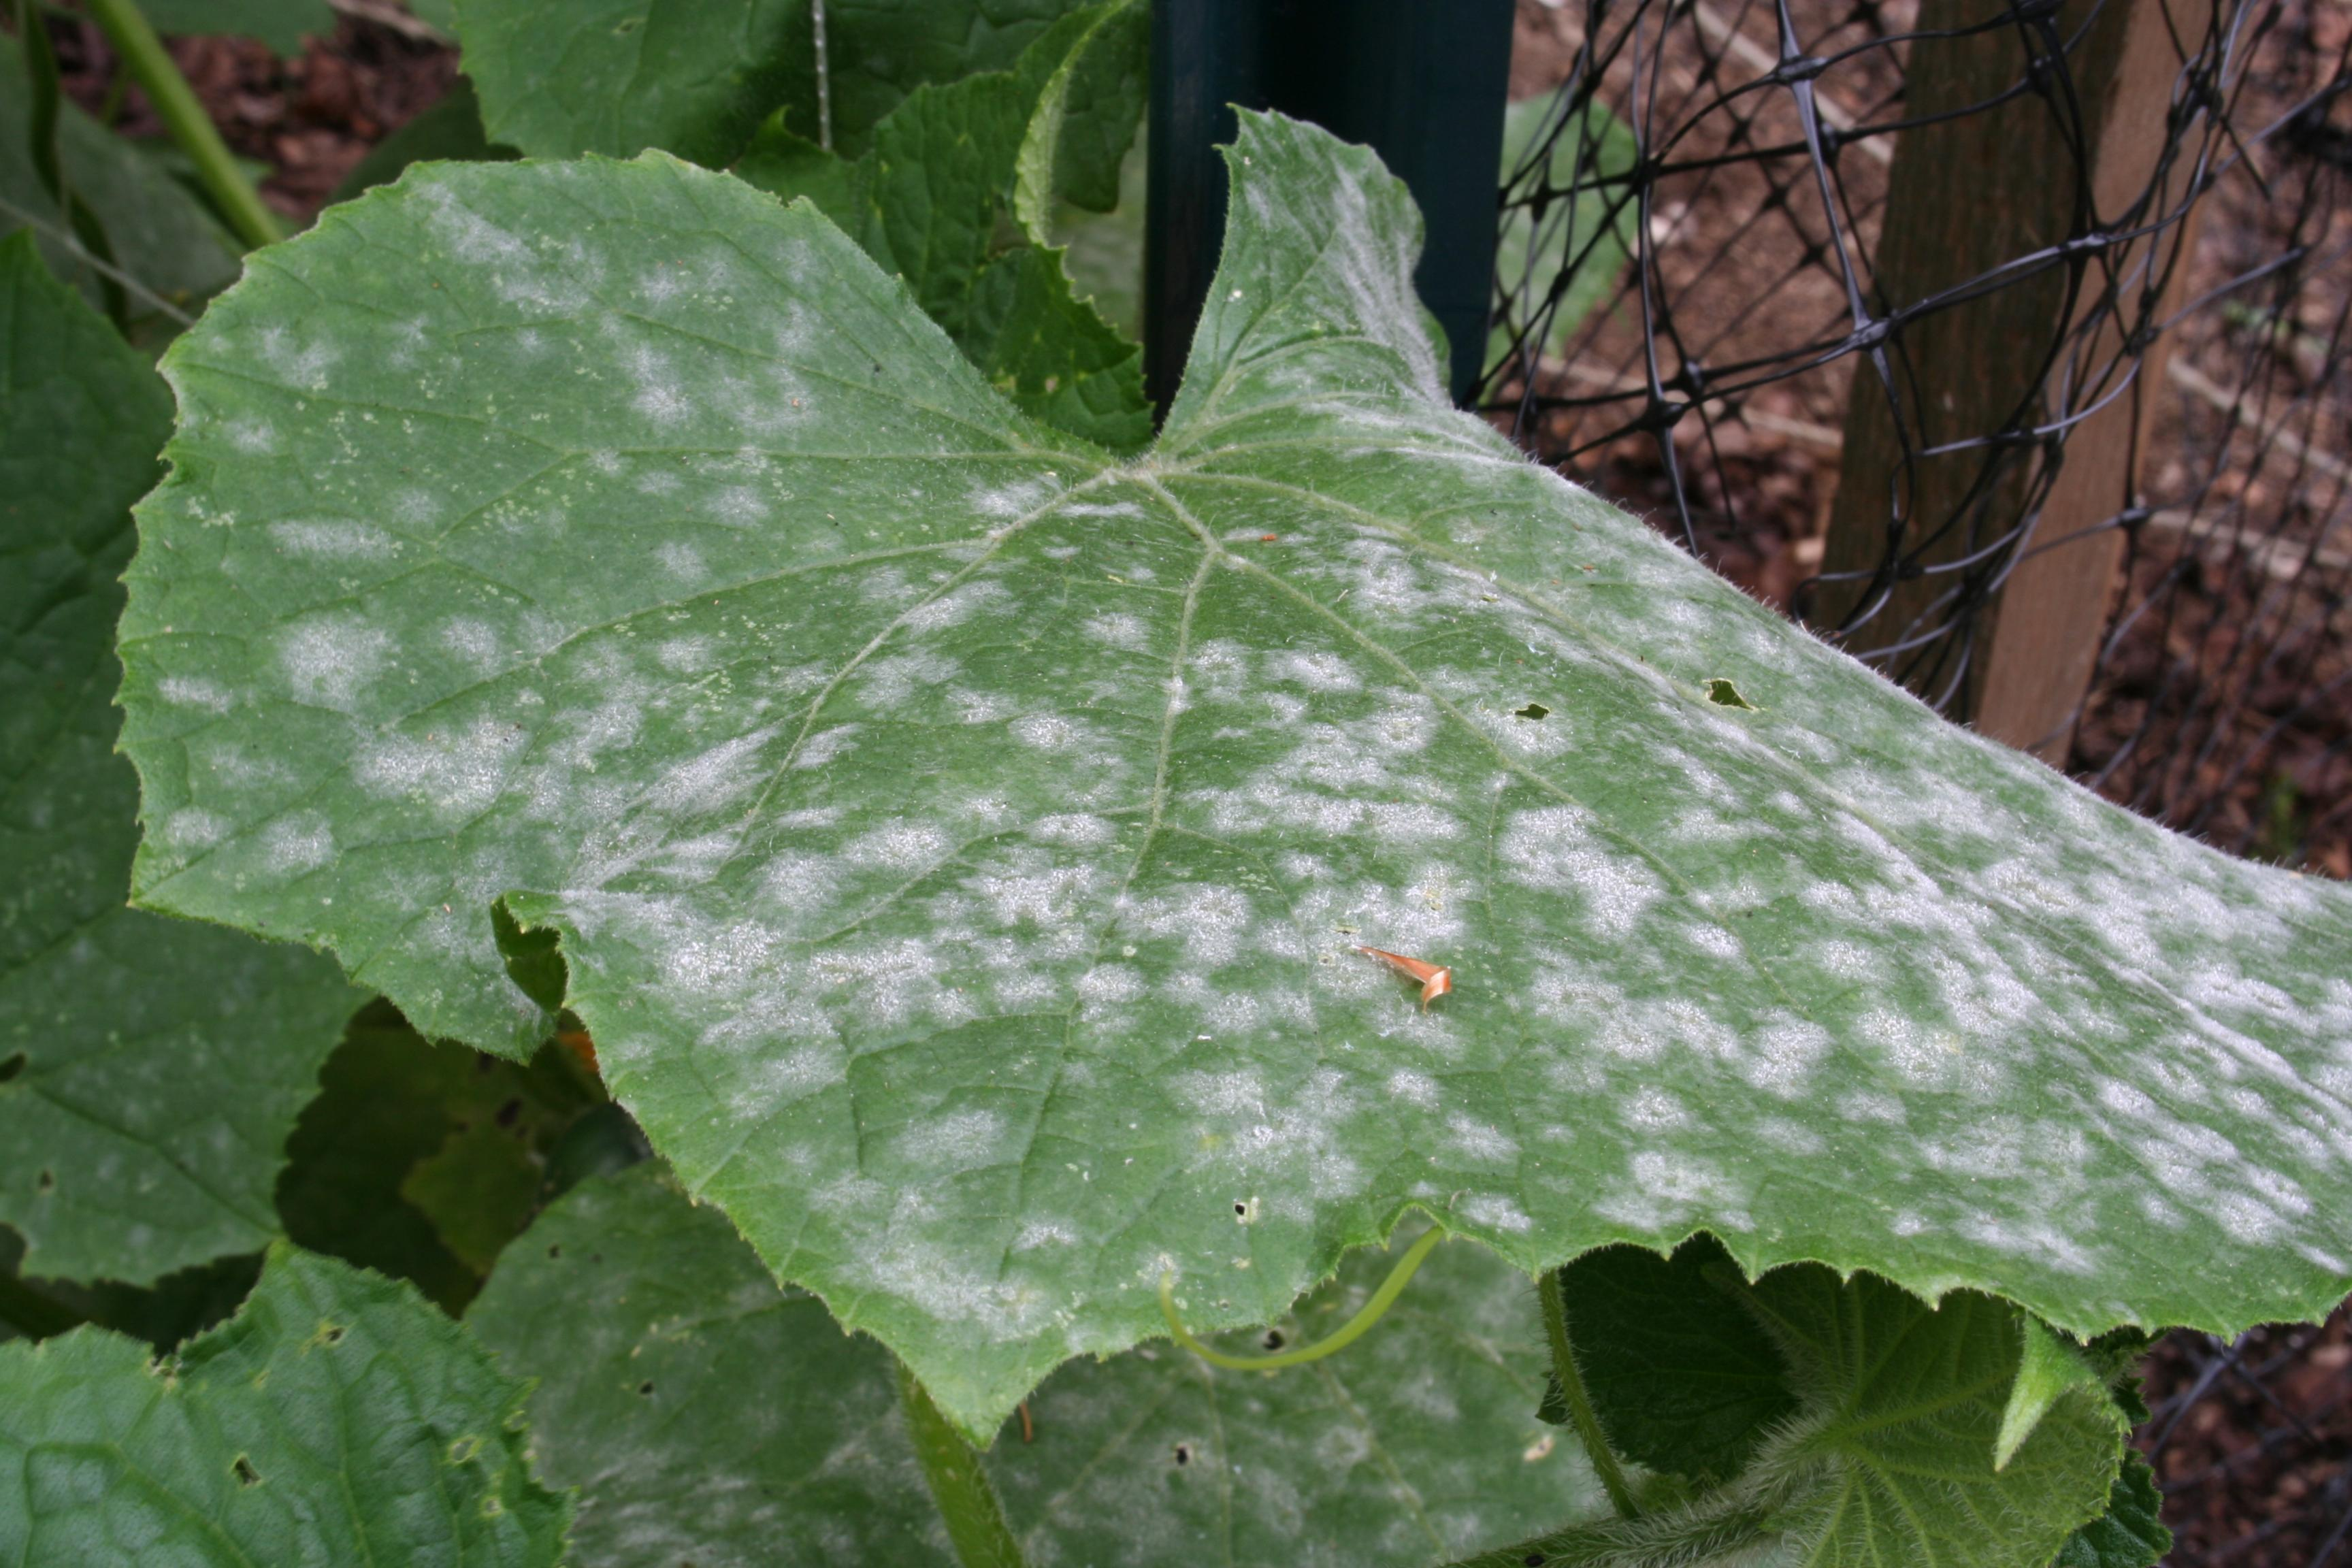Squash Powdery mildew leaf: (77, 89, 2352, 1468)
